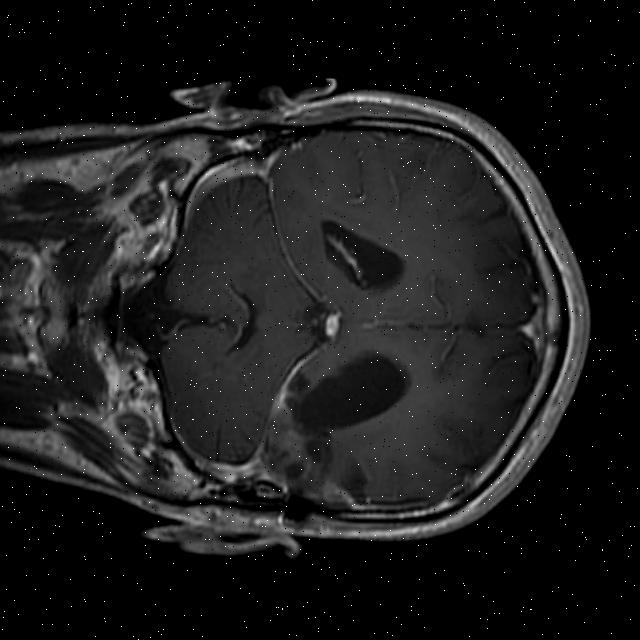Glioma: (258, 410, 334, 497)
